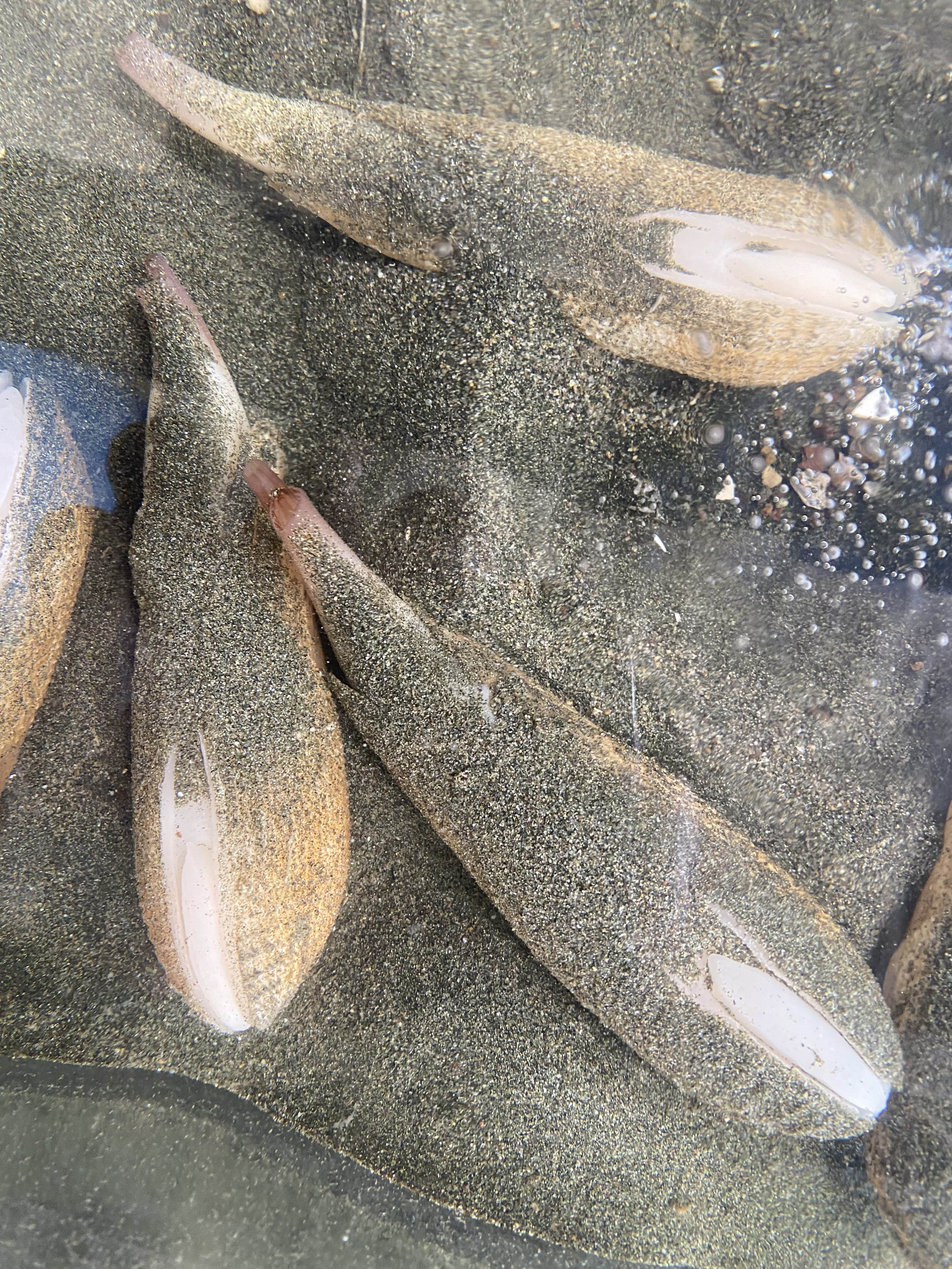Healthy: (245, 461, 900, 1137), (117, 33, 914, 385), (132, 256, 350, 1031), (692, 221, 702, 224)
